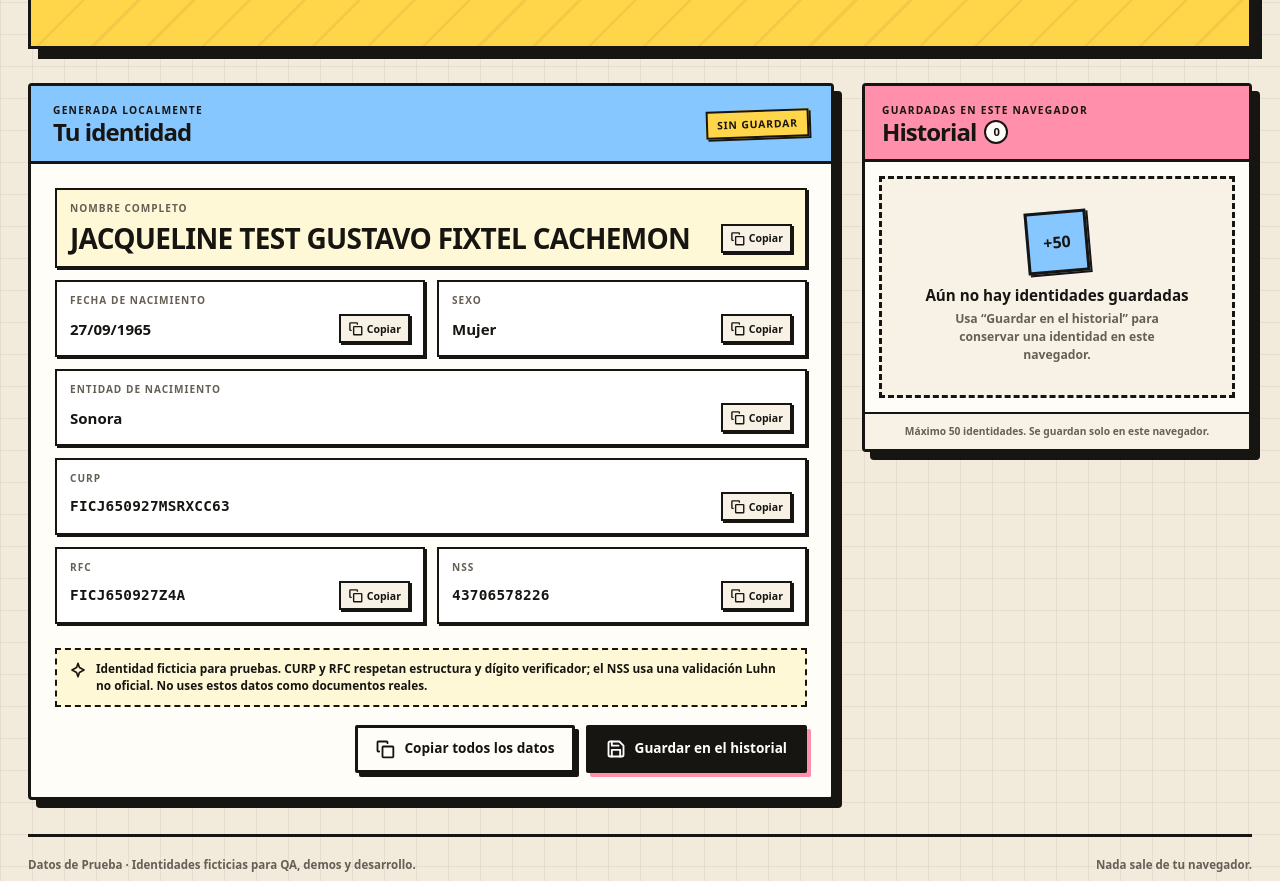
Test: App › loads a saved identity from history back into the main card
(page scrolled)
Click the button "Guardar en el historial".
click(696, 749)  # box 586,725 -> 807,773
(page scrolled)
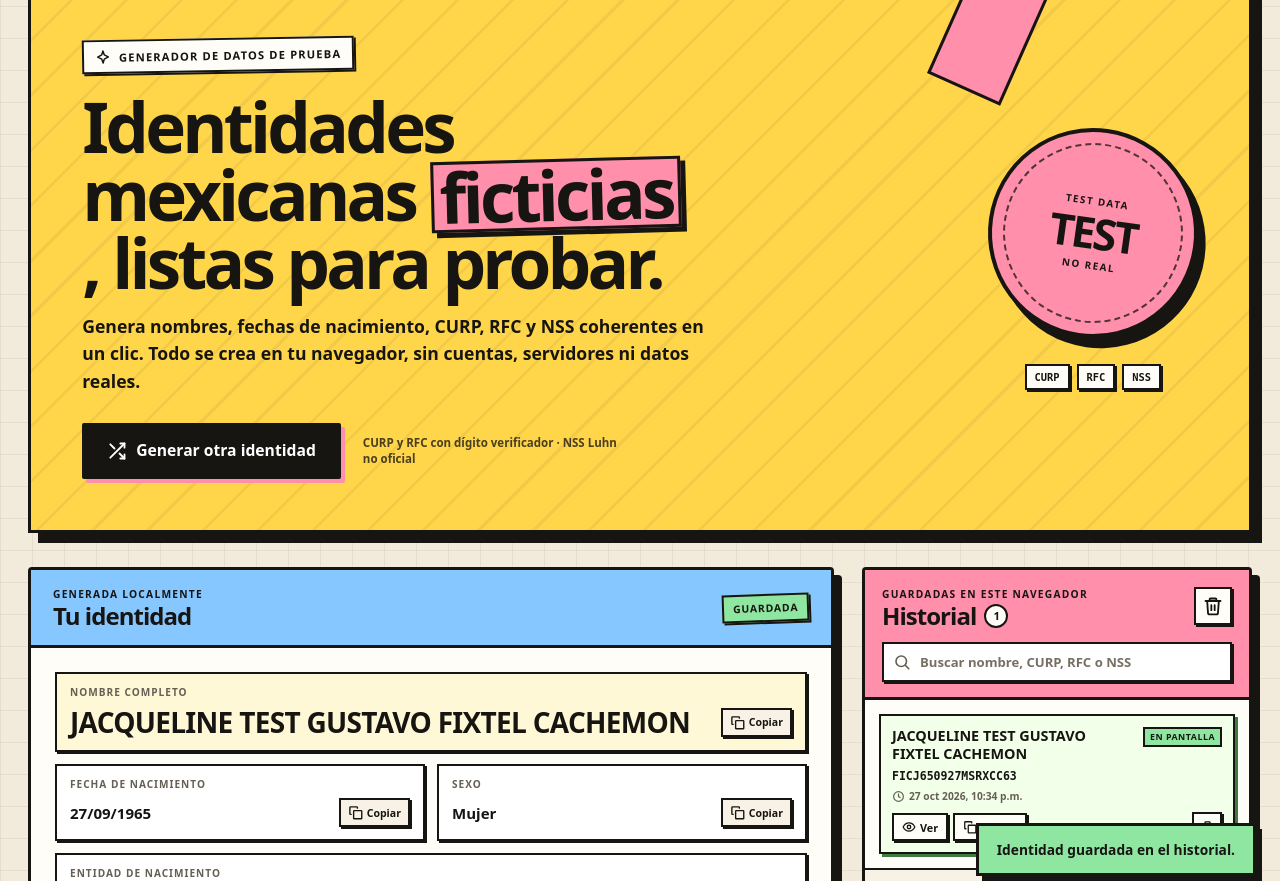
Click the button "Generar otra identidad".
click(212, 451)  # box 82,423 -> 341,479
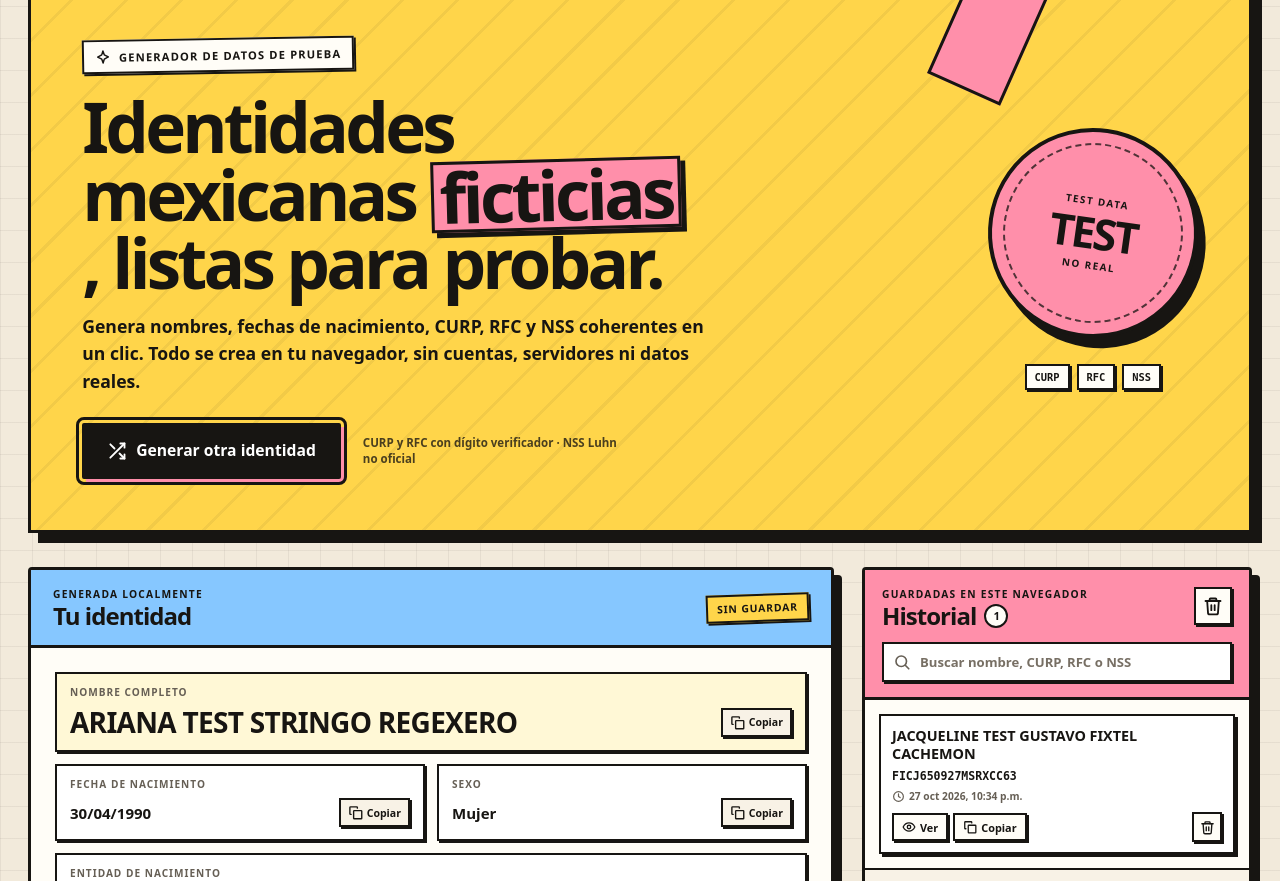
Click the button "Ver".
click(920, 827)  # box 892,813 -> 948,841
(page scrolled)
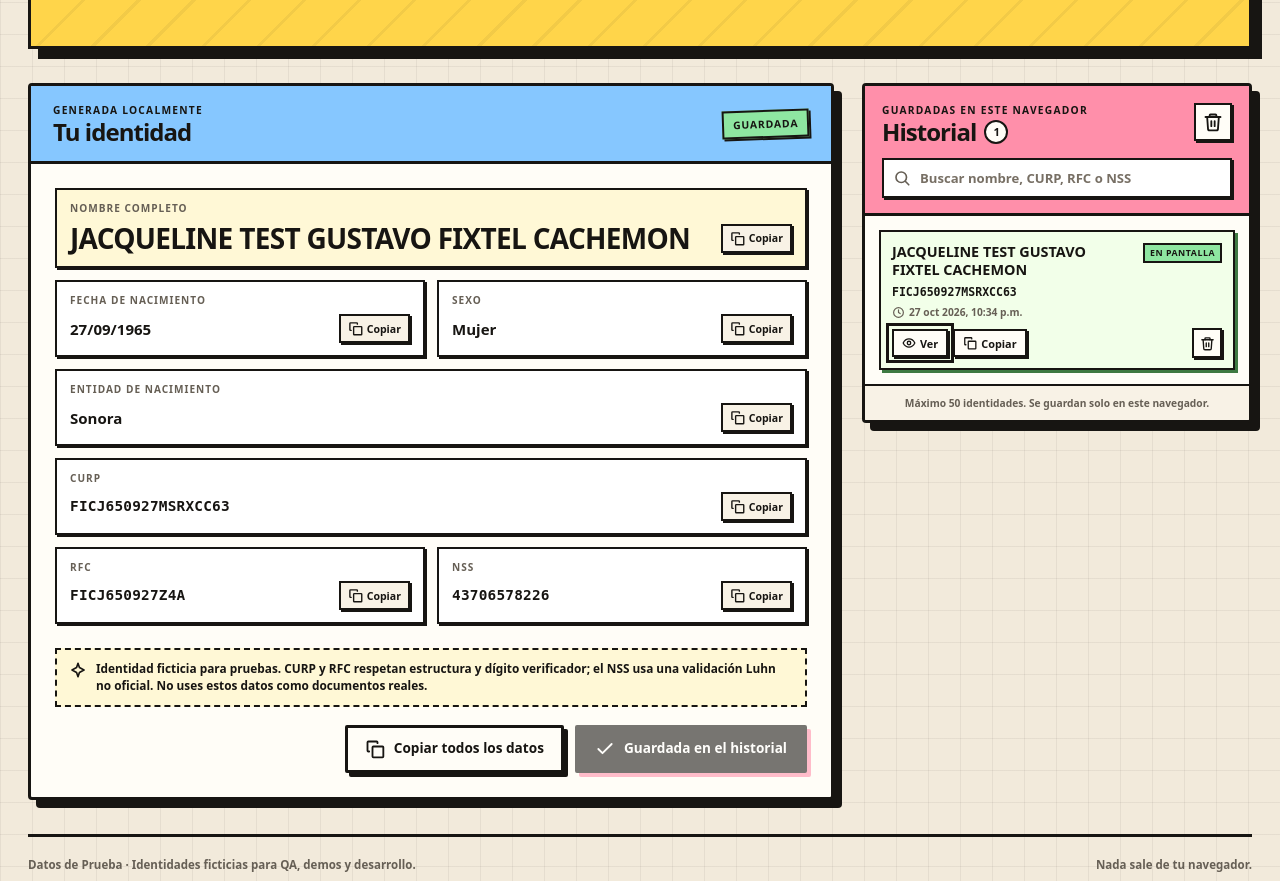
Expected: the button "Guardada en el historial" is disabled, 575,725 -> 807,773
